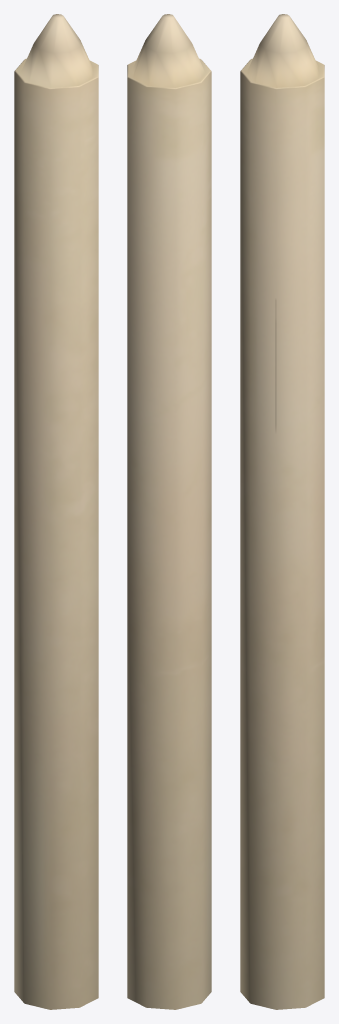
The model's file is SM_CandleLongThin.fbx.
3 renders of one model, left to right at view 1: azimuth 30°, elevation 25°; view 2: azimuth 210°, elevation 25°; view 3: azimuth 270°, elevation 25°, orthographic.
Visible parts, largest first — view 1: SM_CandleLongThin_LOD0; view 2: SM_CandleLongThin_LOD0; view 3: SM_CandleLongThin_LOD0.
Boxes of the visible parts, x1,y1,x2,y2 form: SM_CandleLongThin_LOD0: (14, 14, 98, 1009); SM_CandleLongThin_LOD0: (127, 14, 211, 1009); SM_CandleLongThin_LOD0: (240, 14, 324, 1009).
Size of the model in its own units: 3.22 by 3.17 by 40.43.
Materials: 1 (1 with a texture image).
